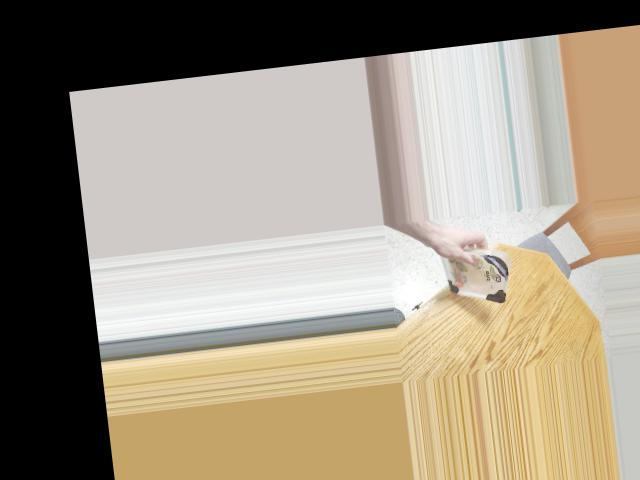cheese: (437, 245, 516, 303)
